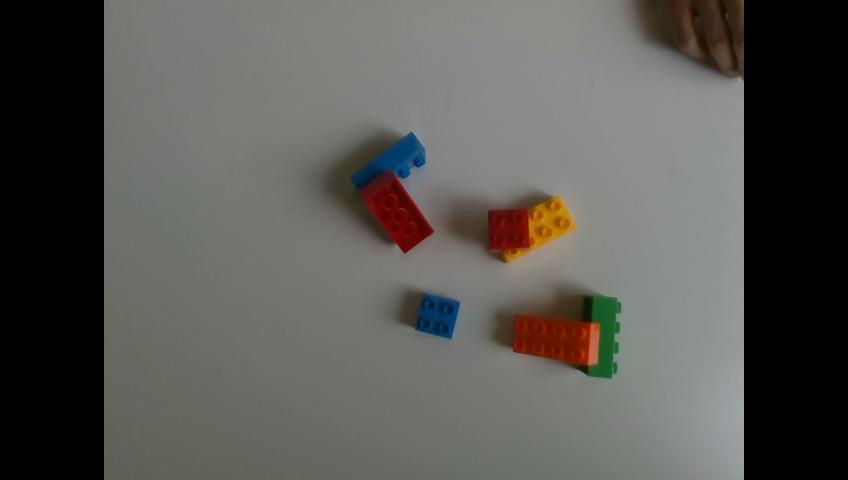2x2_blue: (416, 294, 459, 340)
2x2_red: (489, 209, 531, 250)
4x2_blue: (351, 131, 426, 189)
4x2_green: (588, 294, 621, 377)
4x2_orange: (515, 314, 599, 363)
4x2_red: (359, 171, 432, 251)
4x2_yellow: (490, 195, 576, 260)
